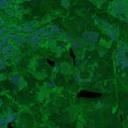alloviz: (75, 87, 103, 101), (67, 47, 78, 65), (44, 56, 56, 67)
